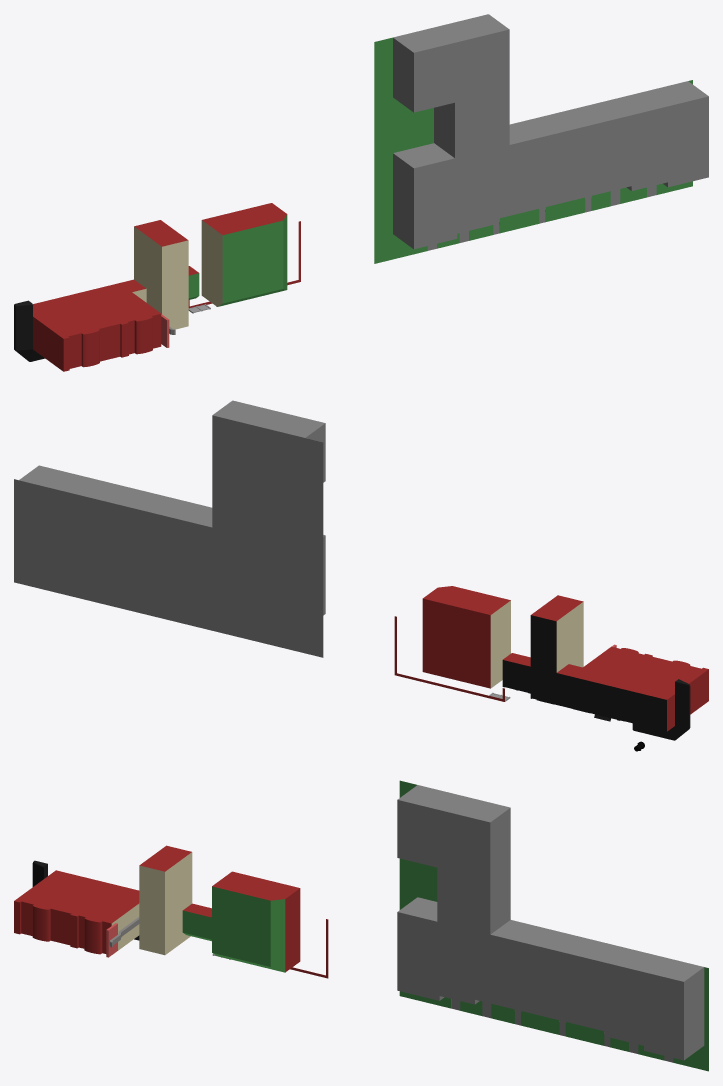
Rendered from ps122_left_map v6.fbx.
The picture shows the model from 3 angles, top to bottom: view 1: azimuth 30°, elevation 25°; view 2: azimuth 150°, elevation 25°; view 3: azimuth 330°, elevation 25°; orthographic projection. The views are drawn at different scales.
Visible parts, largest first — view 1: Body11, Body18, Body3; view 2: Body11, Body18, Body3, Body1; view 3: Body11, Body18, Body3.
Part boxes in pixels (x1=…): Body11: x1=374, y1=14, x2=708, y2=263; Body18: x1=14, y1=220, x2=199, y2=371; Body3: x1=201, y1=203, x2=287, y2=306; Body11: x1=14, y1=400, x2=325, y2=657; Body18: x1=502, y1=595, x2=708, y2=740; Body3: x1=422, y1=586, x2=510, y2=688; Body1: x1=394, y1=616, x2=504, y2=701; Body11: x1=397, y1=780, x2=708, y2=1071; Body18: x1=14, y1=845, x2=211, y2=957; Body3: x1=212, y1=871, x2=300, y2=972.
Bounding box in the file's own units: 284 × 95.15 × 35.
